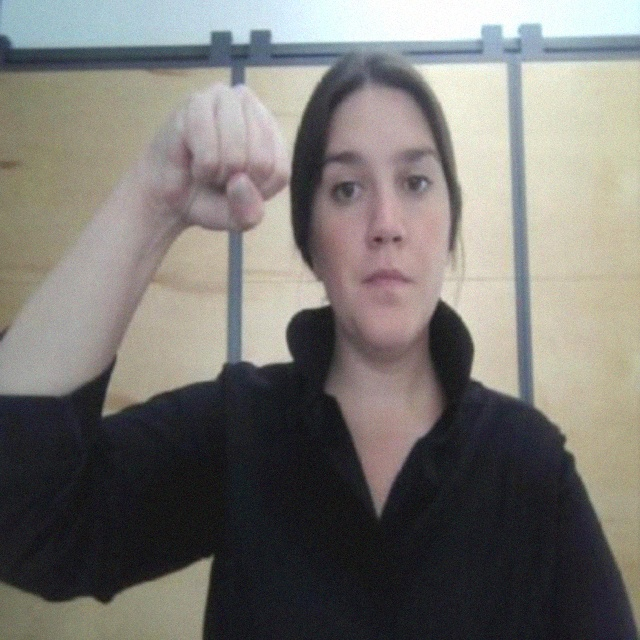Rock: (157, 72, 291, 245)
